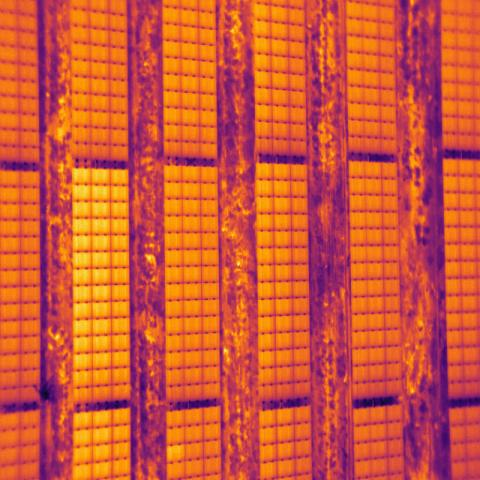fault: (168, 444, 186, 463)
